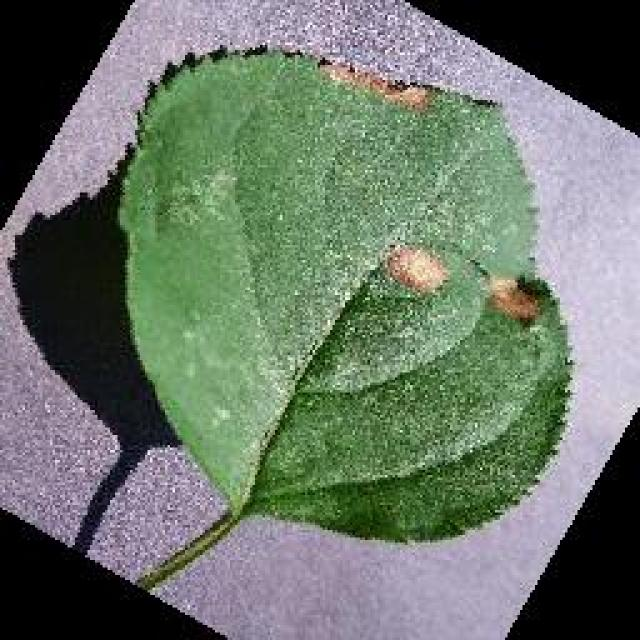Black_rot: (115, 42, 575, 542)
